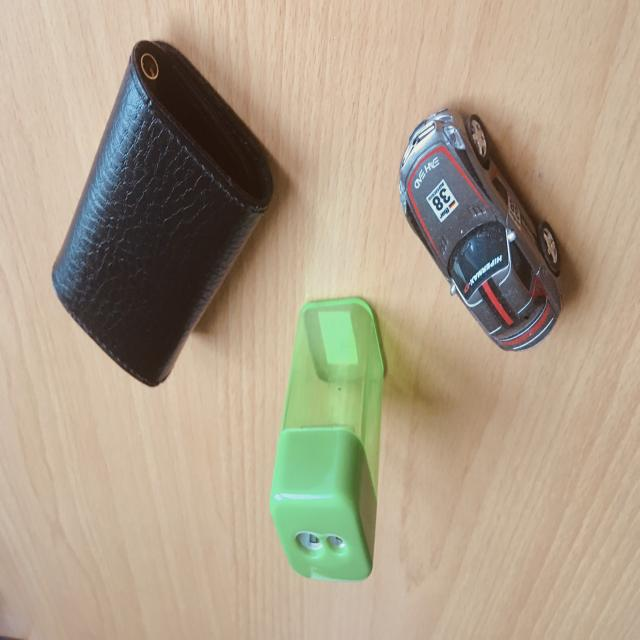Car: (399, 107, 564, 353)
